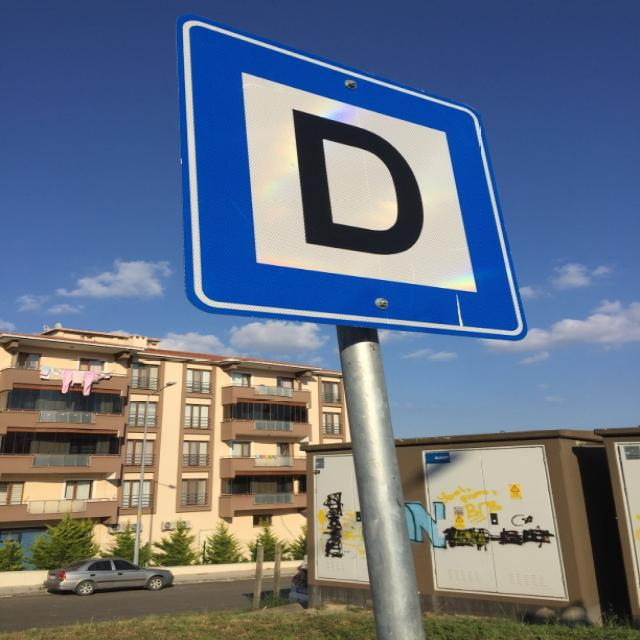durak: (179, 17, 528, 343)
